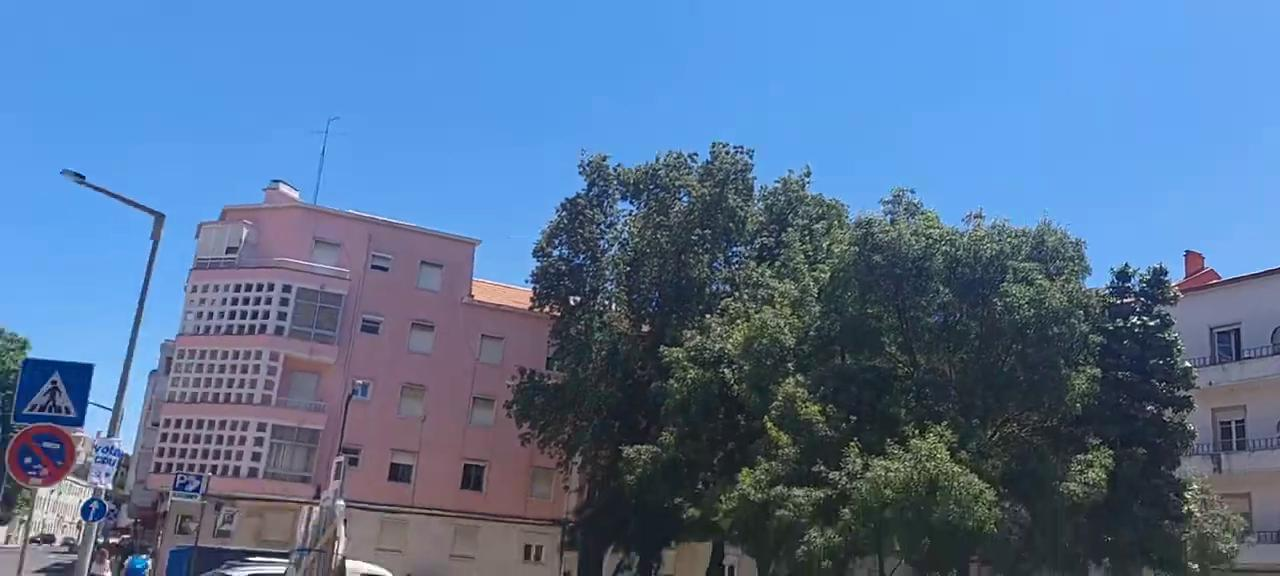Passagem para peoes: (12, 354, 96, 434)
